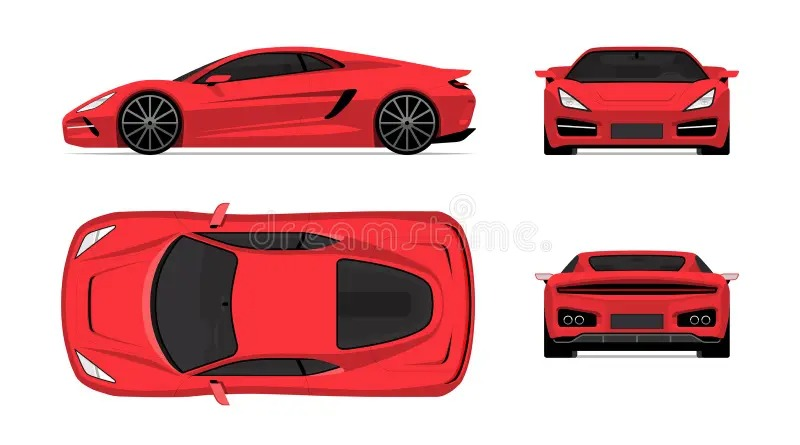car: (84, 43, 454, 152), (536, 45, 729, 154)
